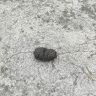Dog: (34, 47, 57, 61)
